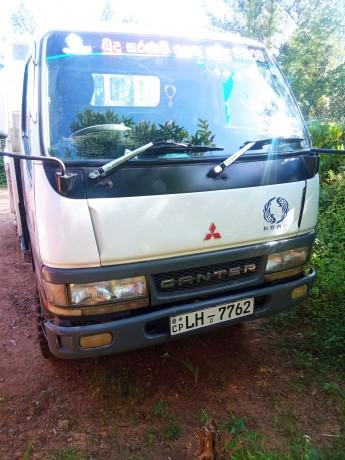truck: (4, 23, 319, 361)
